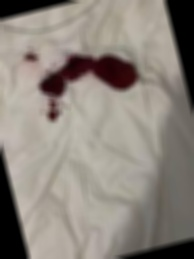blood: (34, 41, 143, 119)
